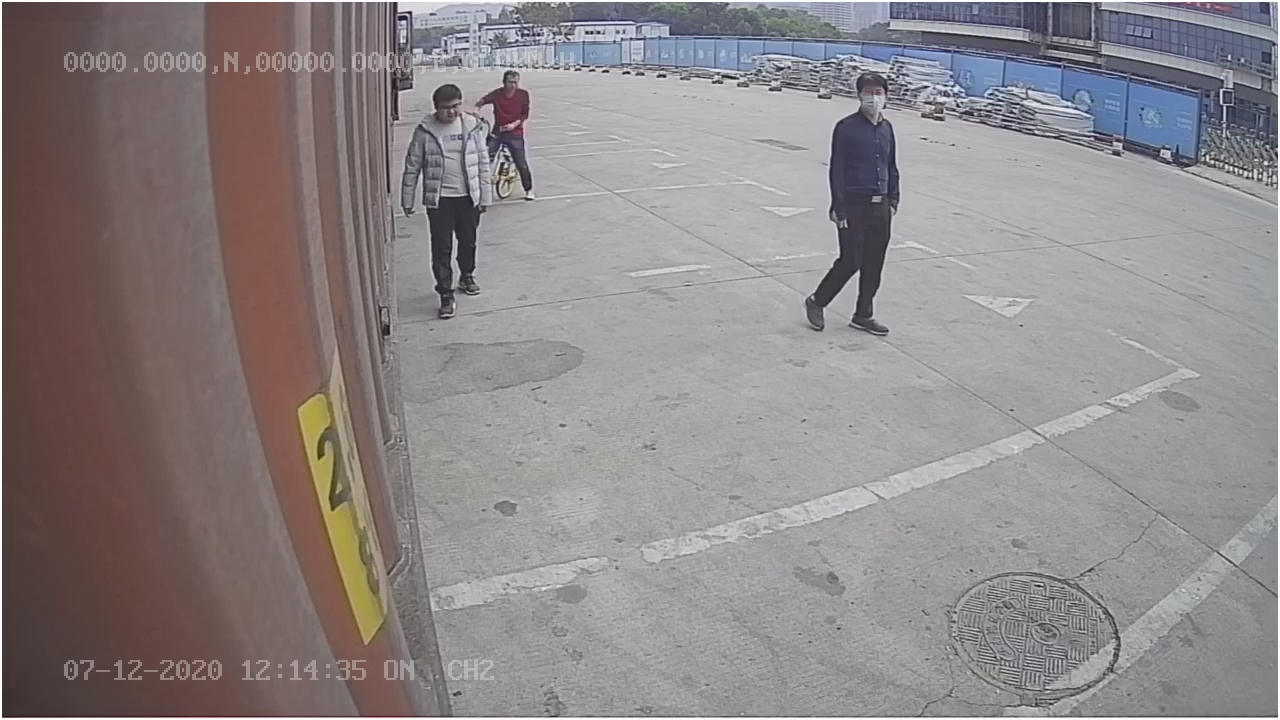person: (802, 68, 907, 341)
